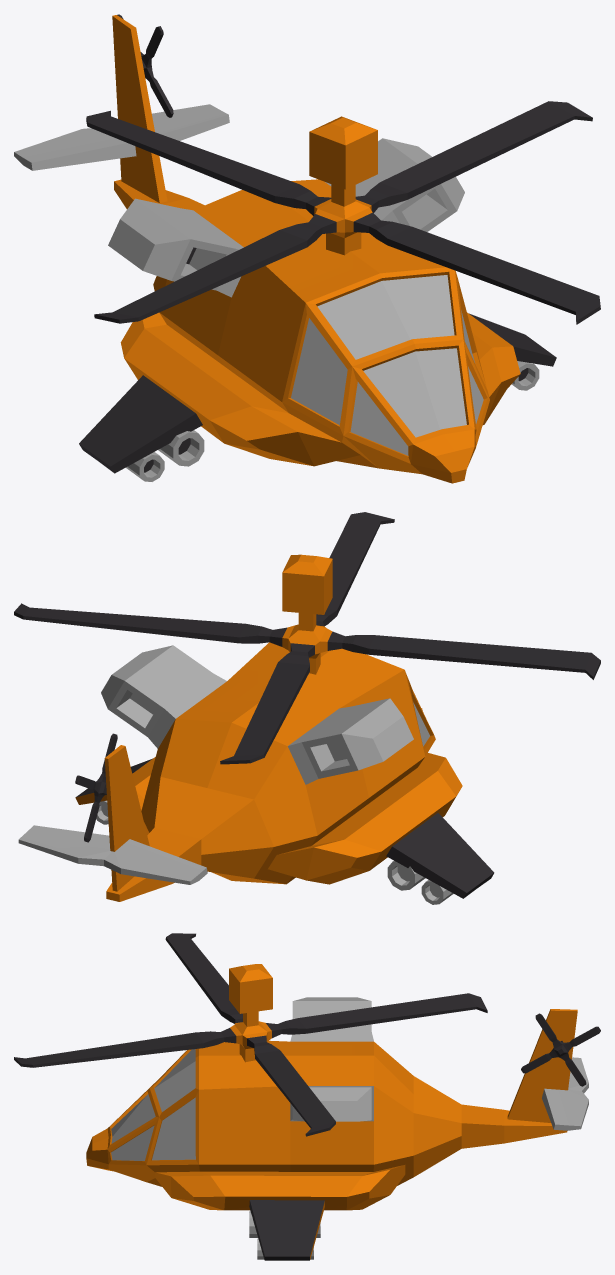
The model's file is helicopter_BOSS.fbx.
3 renders of one model, top to bottom at view 1: azimuth 30°, elevation 25°; view 2: azimuth 150°, elevation 25°; view 3: azimuth 270°, elevation 25°, orthographic. The views are drawn at different scales.
Parts seen in each view (by area): view 1: polySurface2356, polySurface2357; view 2: polySurface2356, polySurface2357; view 3: polySurface2356, polySurface2357.
Boxes of the visible parts, x1,y1,x2,y2 form: polySurface2356: [14, 14, 556, 483]; polySurface2357: [86, 101, 600, 324]; polySurface2356: [18, 642, 494, 904]; polySurface2357: [14, 512, 600, 764]; polySurface2356: [86, 997, 600, 1260]; polySurface2357: [14, 933, 487, 1136].
Bounding box in the file's own units: 525 × 276 × 650.
